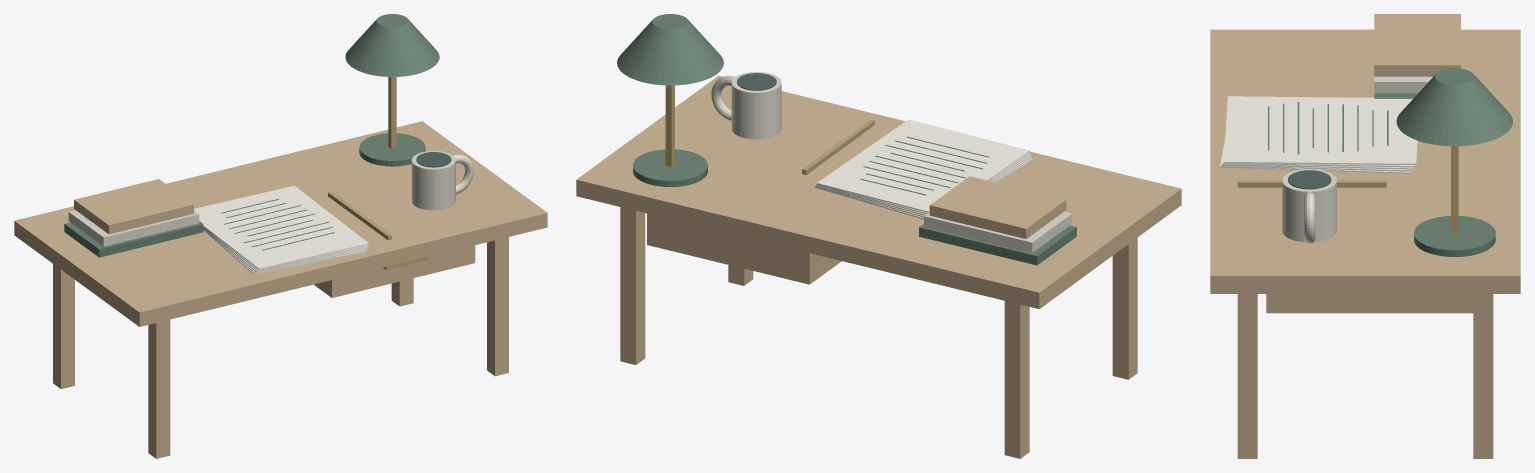
The model's file is workbench.glb.
3 renders of one model, left to right at view 1: azimuth 30°, elevation 25°; view 2: azimuth 150°, elevation 25°; view 3: azimuth 270°, elevation 25°, orthographic. The views are drawn at different scales.
Visible parts, largest first — view 1: Oak desktop, Manuscript page.004, Green desk lamp, Research book.002, Tapered oak leg, Tapered oak leg.002, Desk drawer, Tapered oak leg.001, Ceramic mug, Research book.001, Lamp foot, Research book (+3 smaller); view 2: Oak desktop, Manuscript page.004, Desk drawer, Green desk lamp, Research book.002, Tapered oak leg.001, Tapered oak leg.003, Tapered oak leg, Ceramic mug, Lamp foot, Research book.001, Research book (+2 smaller); view 3: Oak desktop, Manuscript page.004, Green desk lamp, Research book.002, Desk drawer, Tapered oak leg.002, Tapered oak leg.003, Lamp foot, Ceramic mug, Research book.001, Pencil, Lamp stem (+6 smaller).
Boxes of the visible parts, box(x1,y1,x2,y2) form: Oak desktop: box(14, 121, 547, 326); Manuscript page.004: box(194, 185, 368, 269); Green desk lamp: box(345, 14, 439, 76); Research book.002: box(74, 179, 193, 234); Tapered oak leg: box(148, 319, 170, 458); Tapered oak leg.002: box(487, 237, 508, 376); Desk drawer: box(314, 245, 475, 297); Tapered oak leg.001: box(53, 264, 74, 388); Ceramic mug: box(411, 151, 455, 210); Research book.001: box(68, 210, 199, 246); Lamp foot: box(359, 133, 425, 166); Research book: box(64, 221, 203, 257); Oak desktop: box(576, 75, 1181, 309); Manuscript page.004: box(817, 119, 1030, 212); Desk drawer: box(647, 213, 841, 284); Green desk lamp: box(617, 14, 723, 85); Research book.002: box(929, 176, 1066, 238); Tapered oak leg.001: box(1004, 301, 1029, 458); Tapered oak leg.003: box(620, 207, 645, 364); Tapered oak leg: box(1112, 237, 1137, 379); Ceramic mug: box(731, 72, 781, 139); Lamp foot: box(633, 149, 707, 186); Research book.001: box(924, 211, 1071, 252); Research book: box(919, 224, 1076, 265); Oak desktop: box(1210, 29, 1520, 293); Manuscript page.004: box(1224, 96, 1417, 165); Green desk lamp: box(1396, 68, 1512, 146); Research book.002: box(1374, 14, 1460, 76); Desk drawer: box(1266, 294, 1473, 313); Tapered oak leg.002: box(1237, 294, 1257, 458); Tapered oak leg.003: box(1473, 294, 1493, 458); Lamp foot: box(1414, 216, 1495, 256); Ceramic mug: box(1282, 169, 1336, 242); Research book.001: box(1374, 76, 1432, 93); Pencil: box(1237, 180, 1386, 187); Lamp stem: box(1451, 146, 1458, 234).
Size of the model in its own units: 4.7 by 3.24 by 2.5.
